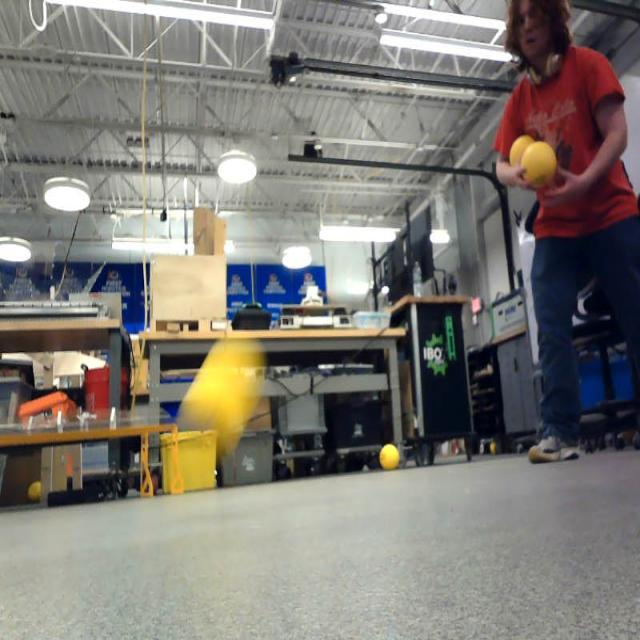Fuel: (189, 359, 250, 439), (522, 141, 556, 188), (511, 137, 536, 174), (380, 443, 399, 471), (29, 481, 43, 502)
